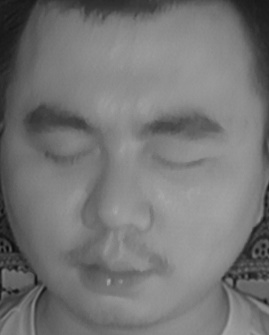blink: (150, 141, 213, 183), (37, 136, 96, 174)
mouth: (67, 237, 155, 300)
